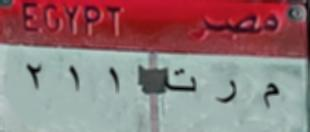1: (99, 58, 131, 101), (60, 61, 86, 96)
2: (19, 60, 54, 97)
meem: (253, 76, 288, 112)
raa: (209, 72, 244, 113)
taa: (160, 68, 202, 98)
